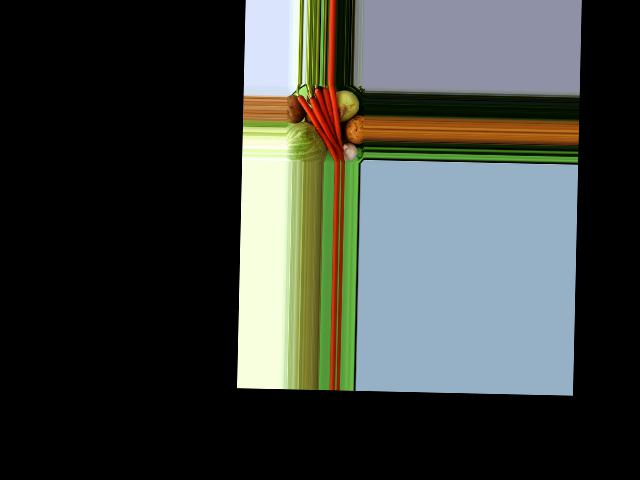carrot: (326, 84, 346, 159)
